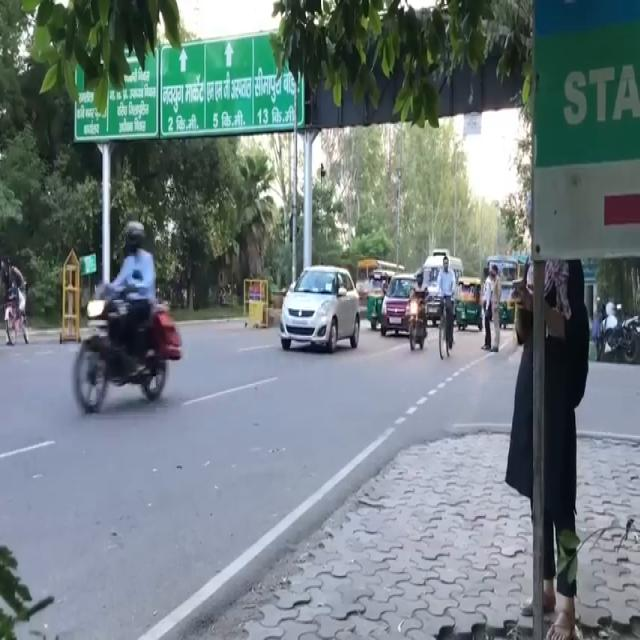MOTORCYCLE: (72, 278, 182, 415), (409, 295, 429, 347)
SED: (283, 262, 361, 350)
